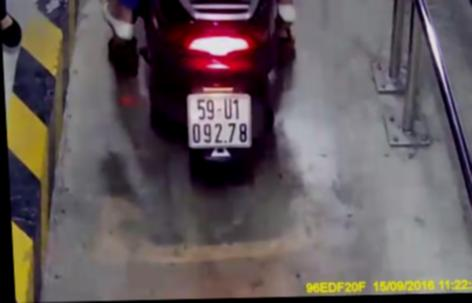License_Plate: (180, 86, 265, 154)
